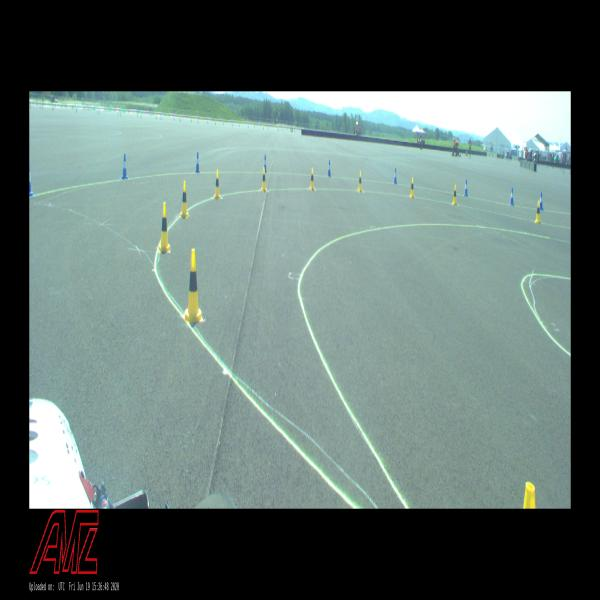blue_cone: (121, 153, 128, 179), (30, 162, 34, 195), (195, 152, 200, 172), (510, 187, 514, 206), (540, 192, 544, 210), (327, 160, 331, 177), (464, 180, 468, 196), (394, 168, 398, 184), (264, 155, 267, 172)
yellow_cone: (183, 249, 203, 322), (159, 202, 170, 252), (180, 182, 189, 216), (214, 170, 221, 198), (261, 167, 267, 192), (535, 201, 541, 223), (452, 186, 457, 205), (310, 168, 314, 190), (410, 177, 414, 197), (358, 172, 362, 192)
